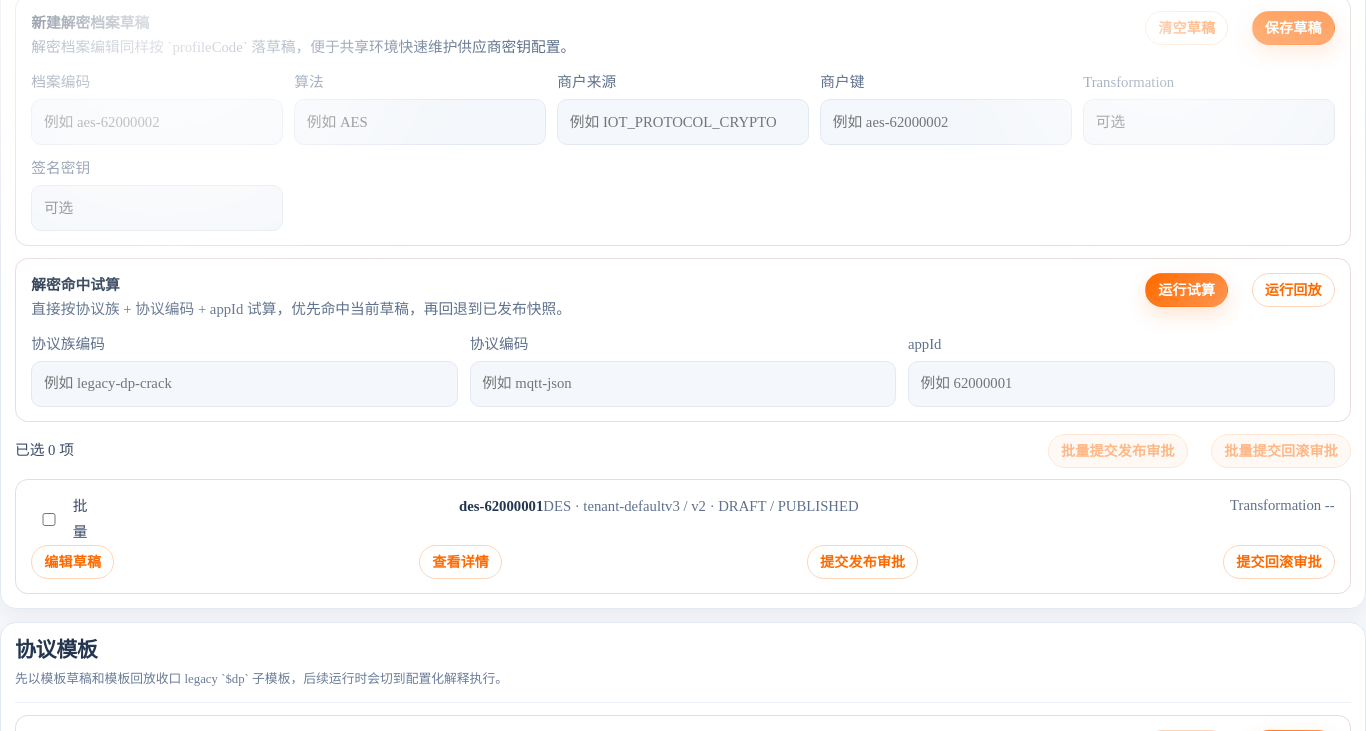
Scenario: ProtocolGovernanceWorkbenchView › runs replay through dedicated replay endpoint
(page scrolled)
Type "legacy-dp-crack" into the field with test id "protocol-preview-family-code". click: (245, 384)
box: [31,361,458,407]
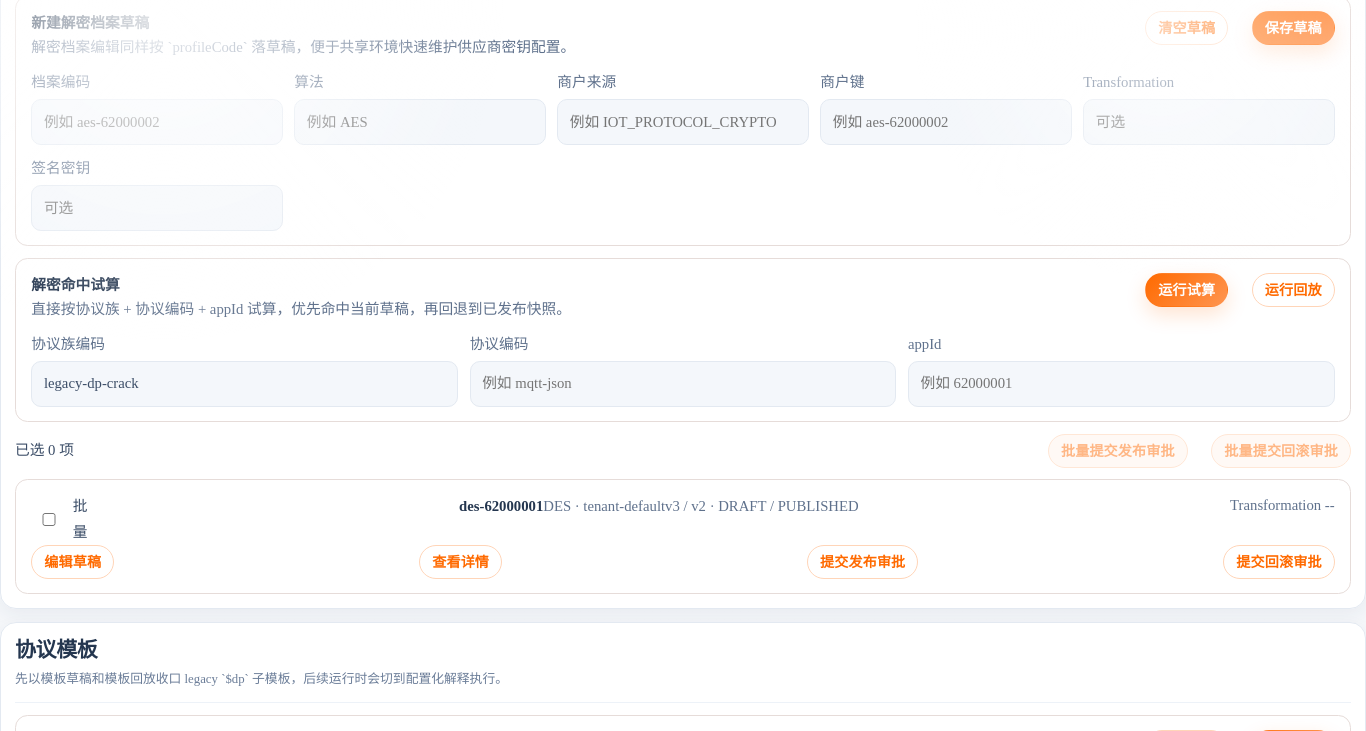
Type "mqtt-json" into the field with test id "protocol-preview-protocol-code". click: (683, 384)
box: [470,361,896,407]
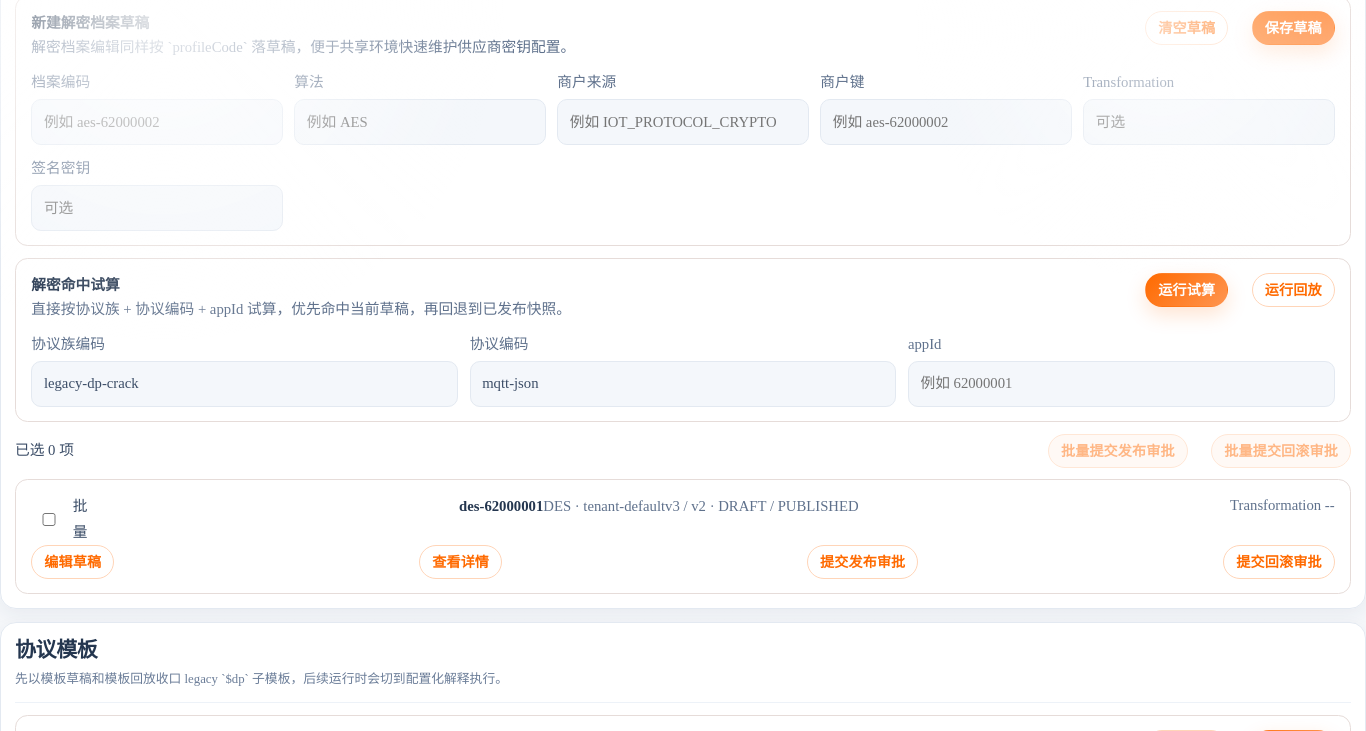
Type "62000001" into the field with test id "protocol-preview-app-id". click: (1121, 384)
box: [908,361,1335,407]
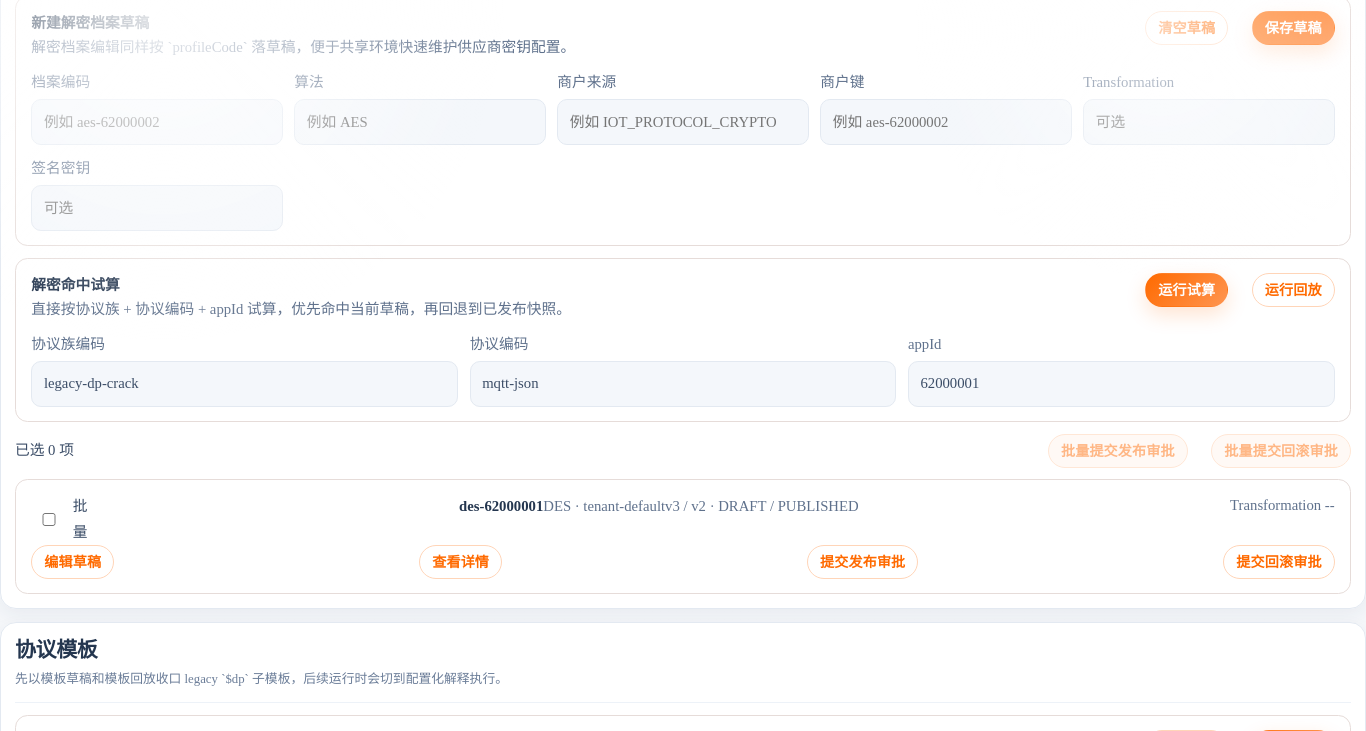
Click the button with test id "protocol-replay-submit". click: (1293, 290)
box: [1252,273,1335,307]
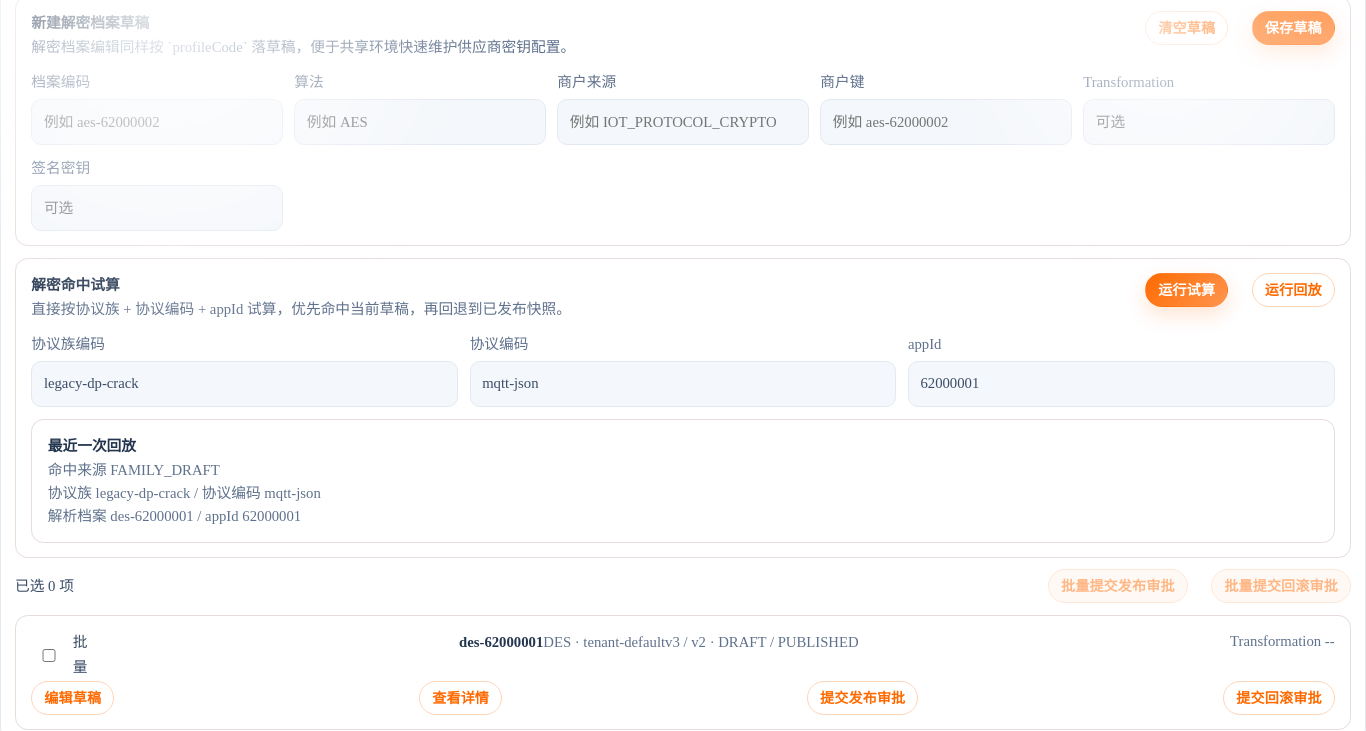
expect the text "FAMILY_DRAFT" is shown: met, box [48,462,220,478]
